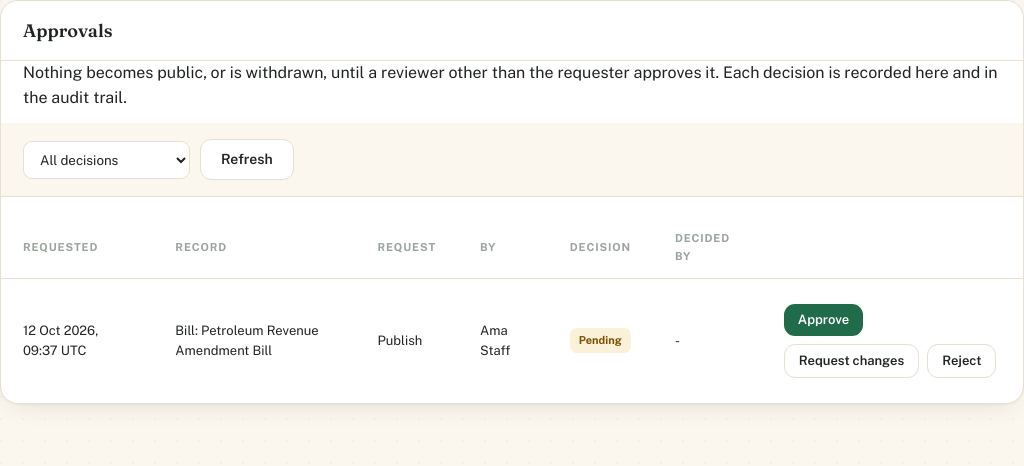
Test: Approvals ledger (T-067) › lets a reviewer approve, with the decision sent to the server
The width and height of the screenshot is (1024, 466).
Click the button with aria-label "Approve Petroleum Revenue Amendment Bill" at (824, 320), box left=784, top=304, right=863, bottom=336
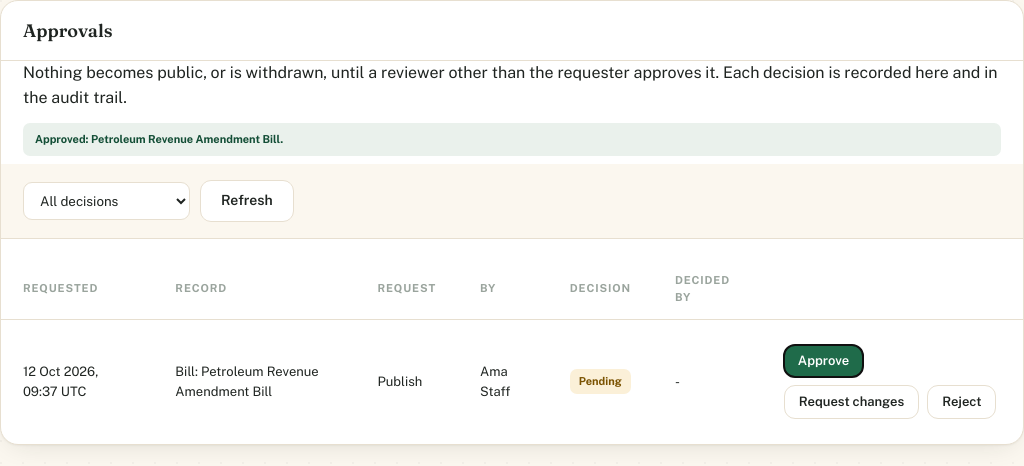
Check: the text "Approved: Petroleum Revenue Amendment Bill." is shown, box left=23, top=123, right=1001, bottom=156
